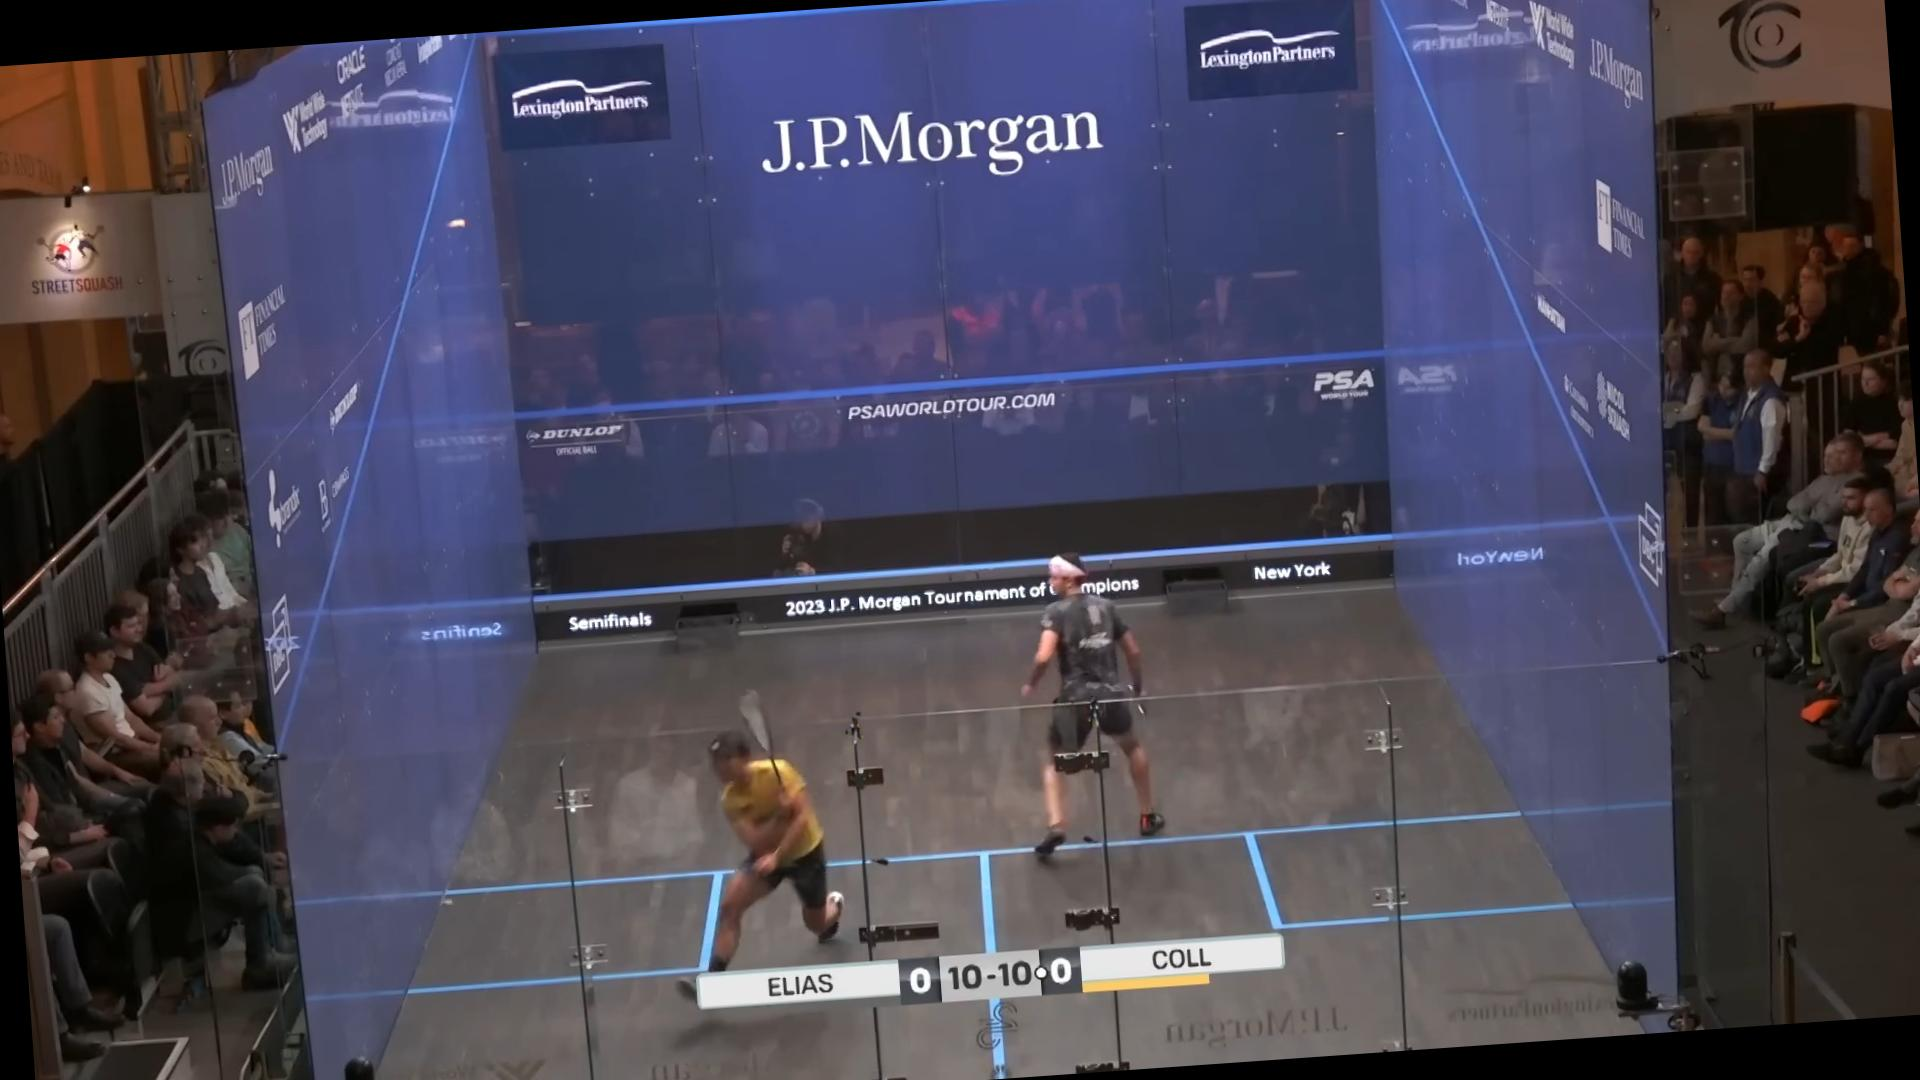Racket: (732, 676, 798, 822)
